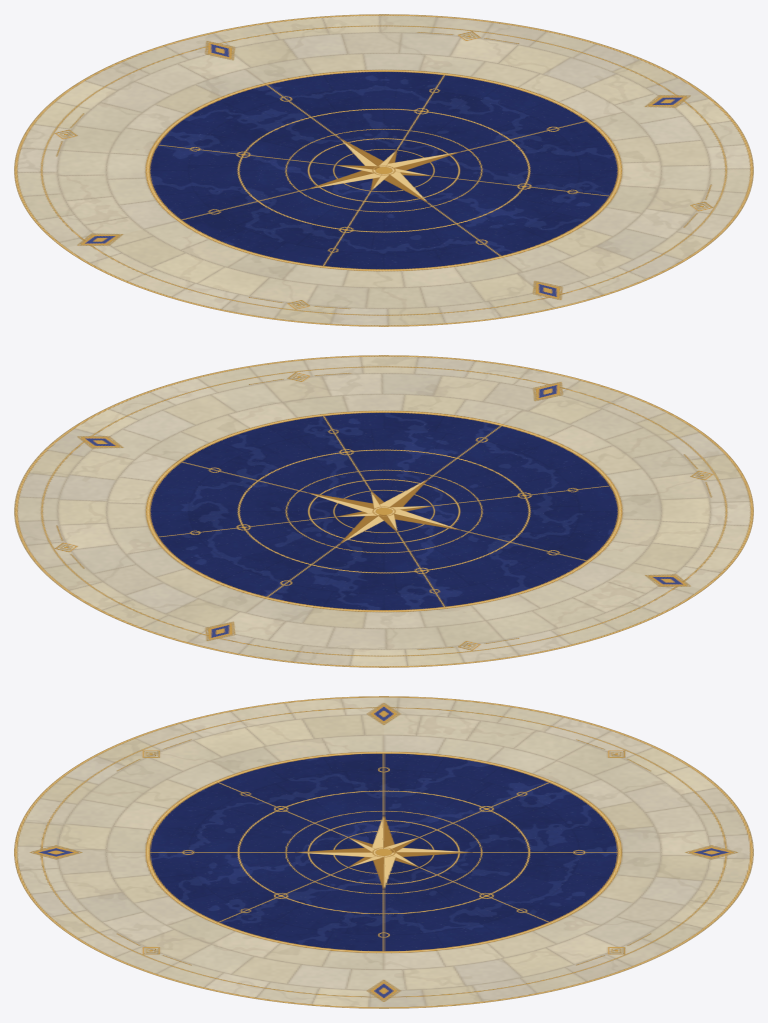
Rendered from SkywardSpire.glb.
3 views of the same model, one above another, from view 1: azimuth 30°, elevation 25°; view 2: azimuth 150°, elevation 25°; view 3: azimuth 270°, elevation 25° (orthographic).
Visible parts, largest first — view 1: FloorSurface; view 2: FloorSurface; view 3: FloorSurface.
Boxes of the visible parts, <box> form: FloorSurface: <box>14,14,753,326</box>; FloorSurface: <box>14,355,753,667</box>; FloorSurface: <box>14,696,753,1008</box>.
Bounding box in the file's own units: 28 × 6.22e-15 × 28.
Materials: 1 (1 with a texture image).
